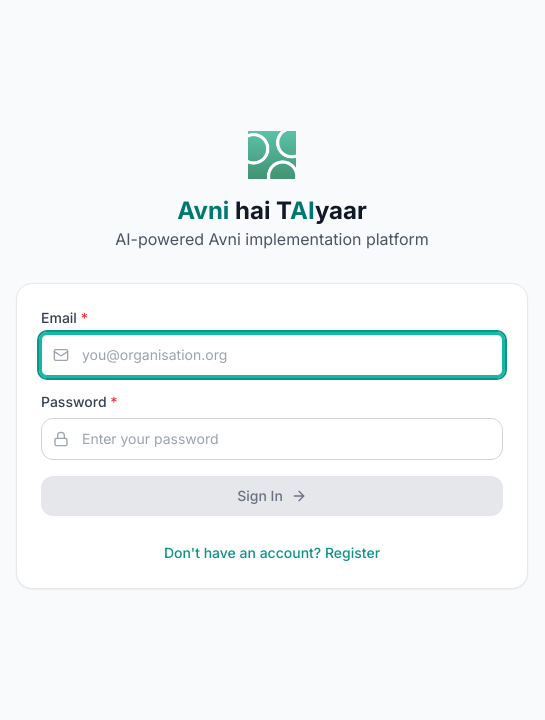
UserProfilePicker › switches to registration mode and shows additional fields
Click the button "Don't have an account? Register" at point(272, 553), box x1=164 y1=543 x2=380 y2=563
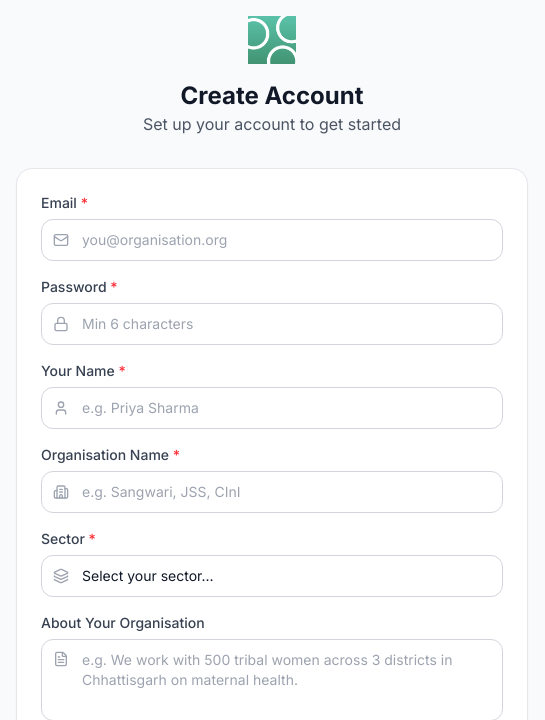
Expected: the field labelled "Your Name *" is shown, x1=41 y1=387 x2=503 y2=429
Expected: the field labelled "Organisation Name *" is shown, x1=41 y1=471 x2=503 y2=513
Expected: the dropdown labelled "Sector *" is shown, x1=41 y1=555 x2=503 y2=597
